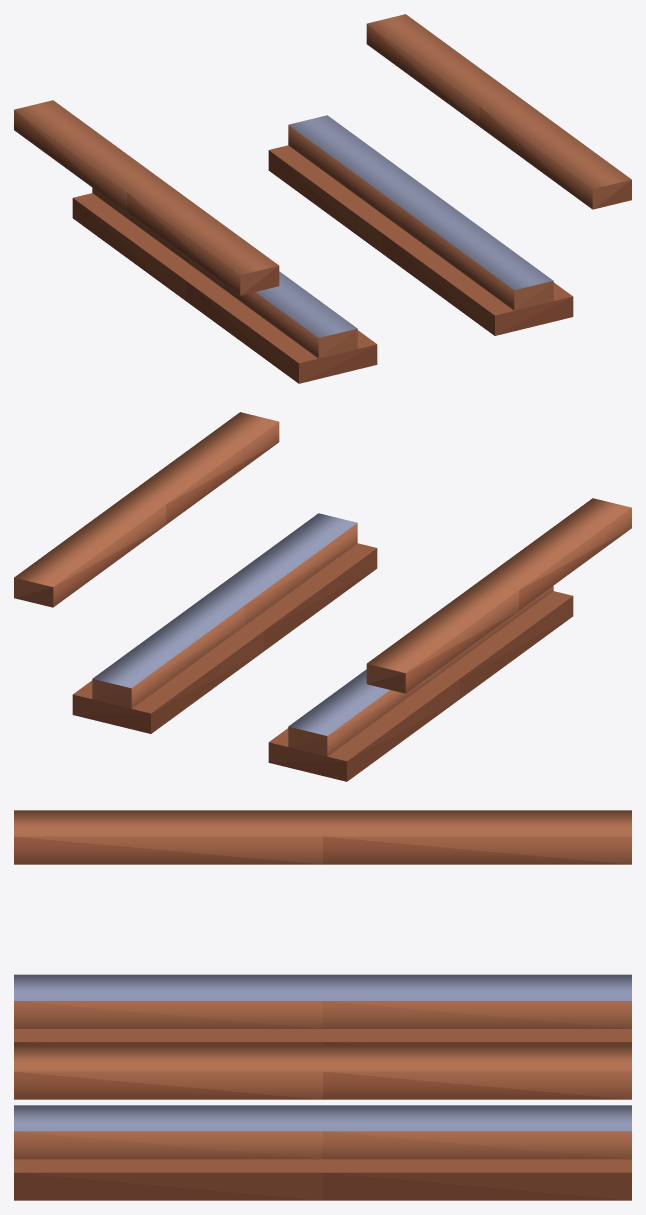
The model's file is coaster_coaster_wood_track.glb.
The picture shows the model from 3 angles, top to bottom: view 1: azimuth 30°, elevation 25°; view 2: azimuth 150°, elevation 25°; view 3: azimuth 270°, elevation 25°; orthographic projection. The views are drawn at different scales.
Parts seen in each view (by area): view 1: coaster_coaster_wood_track; view 2: coaster_coaster_wood_track; view 3: coaster_coaster_wood_track.
Part boxes in pixels (bbox=[...]): coaster_coaster_wood_track: bbox=[14, 14, 631, 383]; coaster_coaster_wood_track: bbox=[14, 412, 631, 781]; coaster_coaster_wood_track: bbox=[14, 810, 631, 1200].
Bounding box in the file's own units: 1 × 0.3 × 1.
